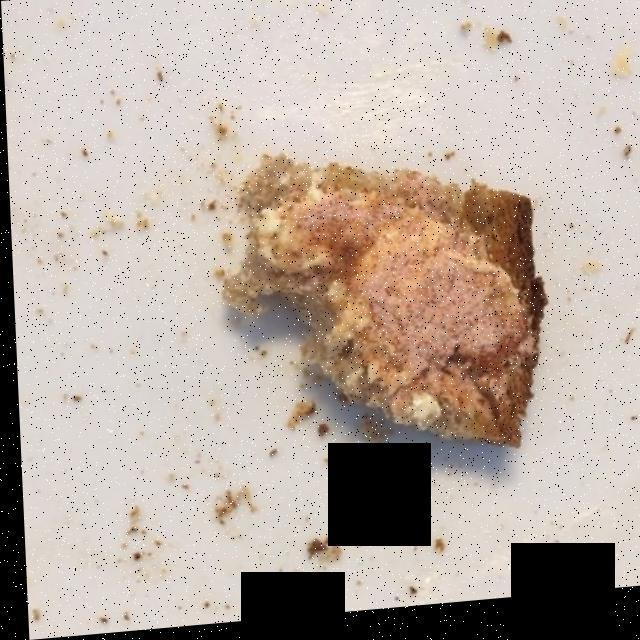bread: (229, 165, 532, 448)
